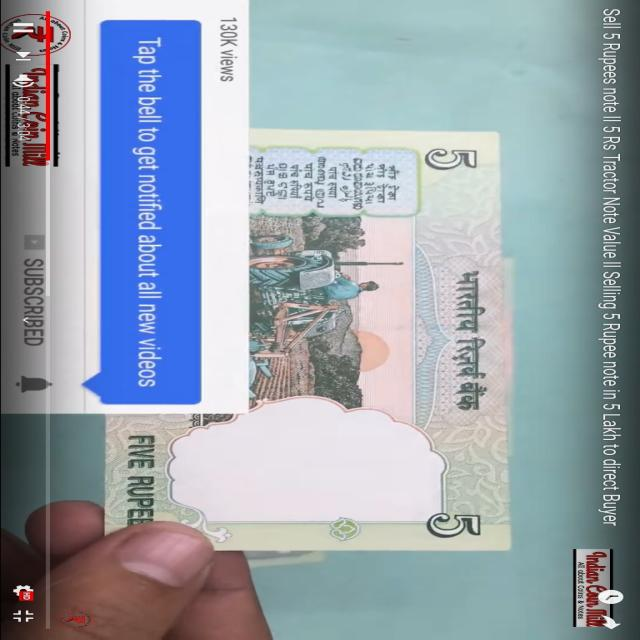5IndianRupees: (133, 131, 502, 553)
